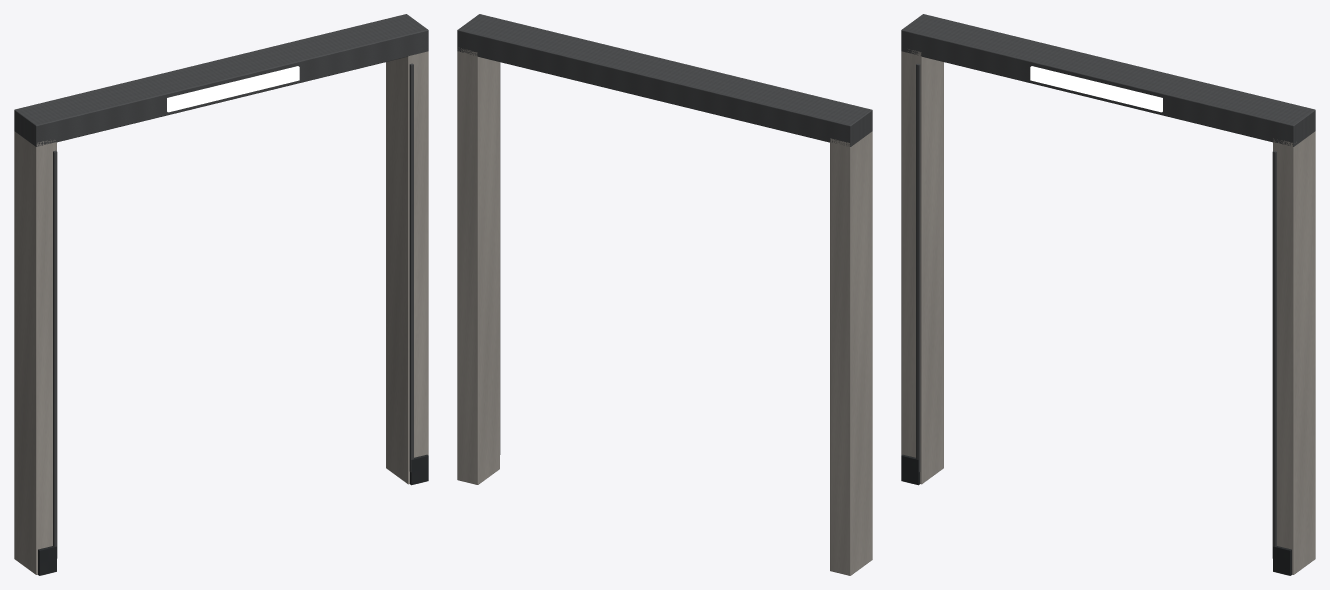
The model's file is double_door_frame.glb.
3 views of the same model, side by side, from view 1: azimuth 30°, elevation 25°; view 2: azimuth 150°, elevation 25°; view 3: azimuth 330°, elevation 25° (orthographic).
Parts seen in each view (by area): view 1: jamb.006, jamb.007, header.002, header_light.001, frame_inner_trim.003, frame_inner_trim.002; view 2: jamb.006, jamb.007, header.002; view 3: jamb.007, jamb.006, header.002, header_light.001, frame_inner_trim.002, frame_inner_trim.003.
Boxes of the visible parts, x1,y1,x2,y2 form: jamb.006: [14, 131, 56, 574]; jamb.007: [386, 51, 428, 484]; header.002: [14, 14, 428, 146]; header_light.001: [167, 66, 299, 112]; frame_inner_trim.003: [409, 63, 413, 471]; frame_inner_trim.002: [53, 150, 57, 558]; jamb.006: [830, 131, 872, 575]; jamb.007: [457, 47, 499, 484]; header.002: [457, 14, 872, 146]; jamb.007: [1273, 131, 1315, 574]; jamb.006: [901, 49, 943, 484]; header.002: [901, 14, 1315, 146]; header_light.001: [1030, 66, 1162, 112]; frame_inner_trim.002: [916, 63, 920, 471]; frame_inner_trim.003: [1272, 150, 1276, 558].
Size of the model in its own units: 2.24 by 2.45 by 0.2355.
4 materials, 3 textured.
